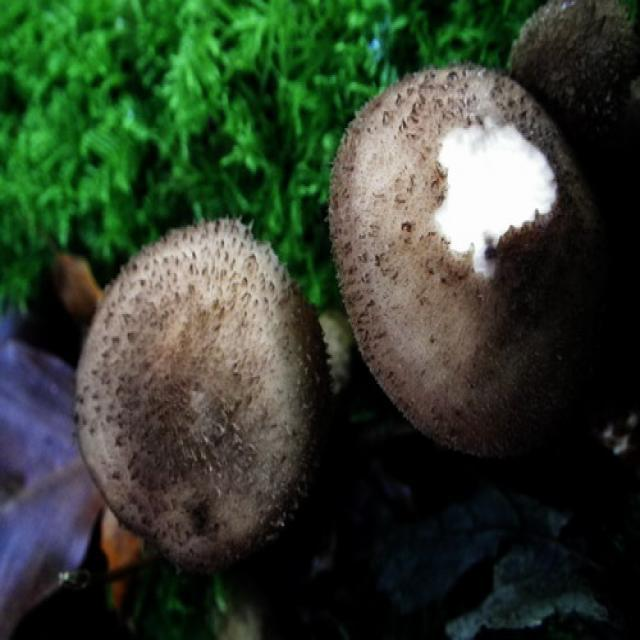Armillaria mellea: (332, 66, 613, 450), (72, 221, 331, 549)
